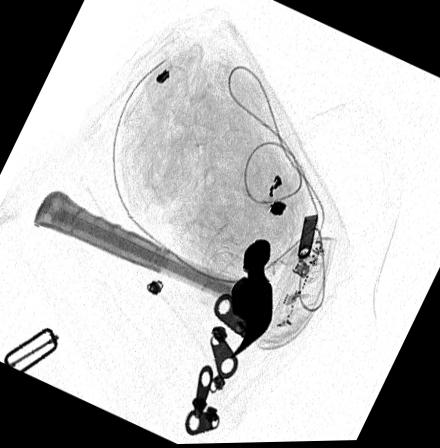Hammer: (33, 190, 273, 360)
